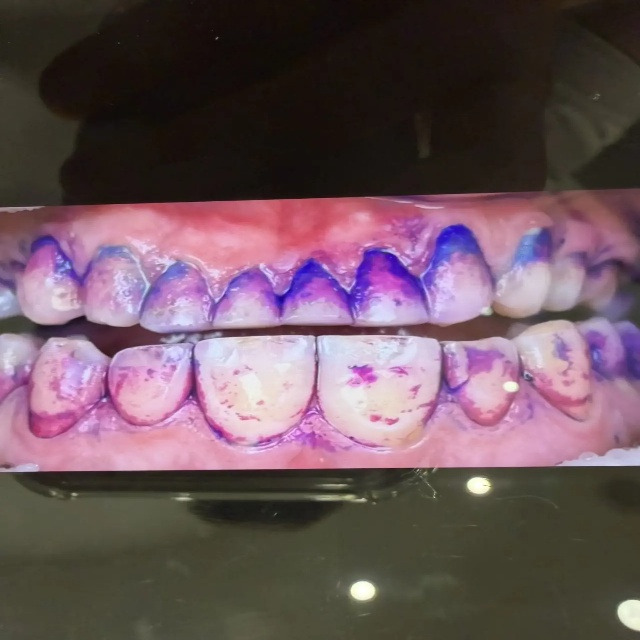plaque: (0, 248, 499, 454), (425, 349, 567, 461), (0, 226, 129, 307), (254, 380, 376, 456), (577, 291, 639, 440), (510, 224, 639, 288)
